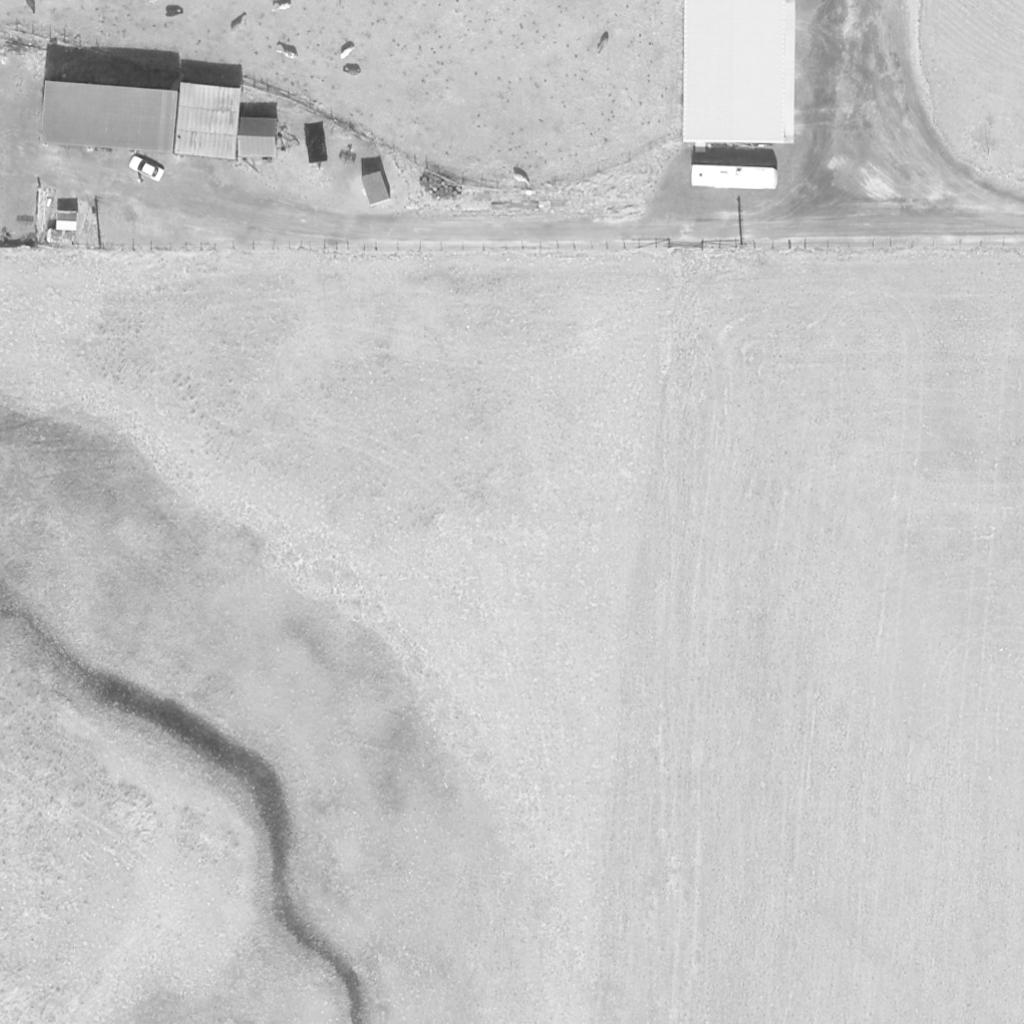vehicle: (690, 165, 780, 191), (128, 154, 166, 184)
